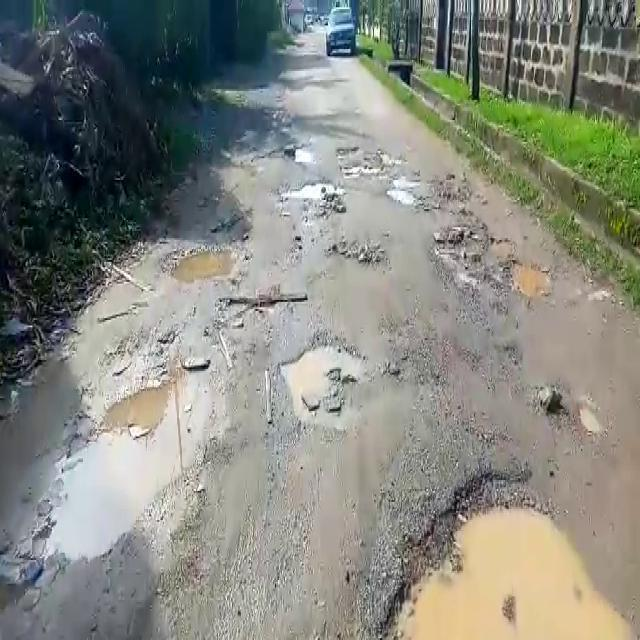pothole: (366, 464, 640, 640), (40, 377, 225, 560), (428, 219, 551, 309), (282, 336, 369, 424), (160, 238, 245, 288), (217, 290, 305, 323), (289, 179, 350, 209), (325, 238, 386, 265), (384, 174, 423, 208), (181, 358, 211, 373), (333, 143, 364, 154)
